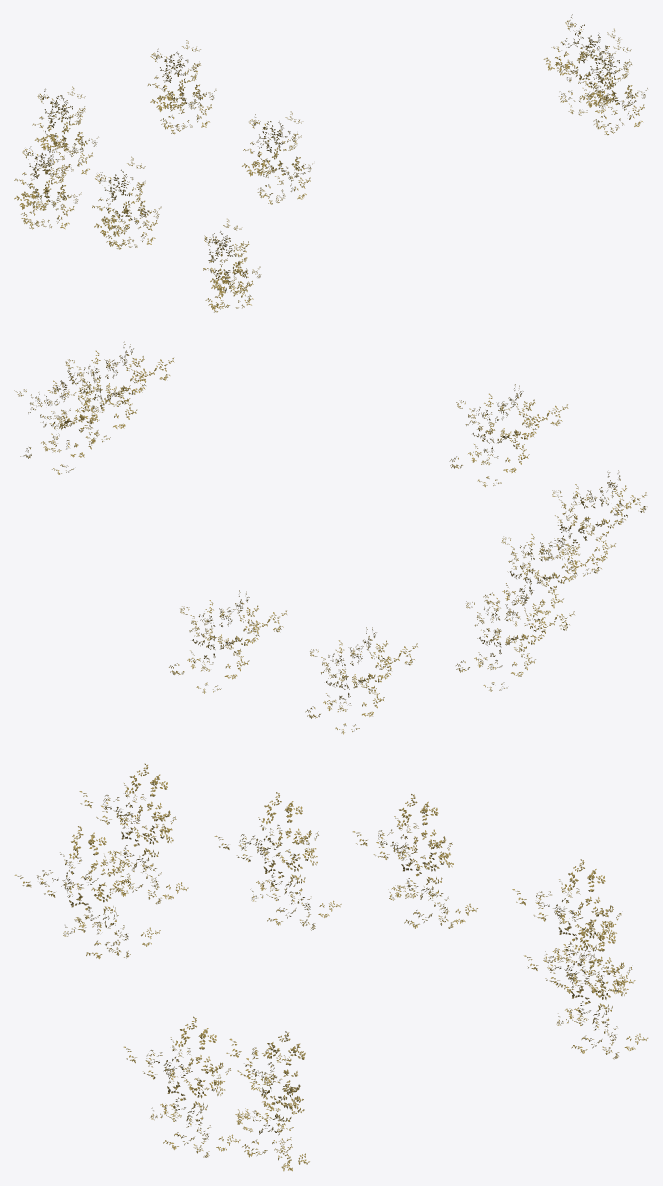
File: treeBf.fbx
3 renders of one model, top to bottom at view 1: azimuth 30°, elevation 25°; view 2: azimuth 150°, elevation 25°; view 3: azimuth 270°, elevation 25°, orthographic. The views are drawn at different scales.
Visible parts, largest first — view 1: m009002_2_5, m009002_2_4, m009002_2_3, m009002_2_6, m009002_2, m009002_2_1, m009002_2_7, m009002_2_2; view 2: m009002_2_6, m009002_2_7, m009002_2_1, m009002_2_5, m009002_2_2, m009002_2, m009002_2_3, m009002_2_4; view 3: m009002_2_2, m009002_2_4, m009002_2_1, m009002_2_6, m009002_2_5, m009002_2, m009002_2_3, m009002_2_7.
Boxes of the visible parts, left/top/right/bottom form: m009002_2_5: left=92, top=156, right=161, bottom=249; m009002_2_4: left=14, top=139, right=81, bottom=229; m009002_2_3: left=203, top=218, right=261, bottom=312; m009002_2_6: left=147, top=40, right=216, bottom=134; m009002_2: left=578, top=41, right=647, bottom=135; m009002_2_1: left=242, top=111, right=312, bottom=204; m009002_2_7: left=32, top=86, right=98, bottom=179; m009002_2_2: left=543, top=14, right=621, bottom=115; m009002_2_6: left=169, top=590, right=286, bottom=693; m009002_2_7: left=305, top=627, right=417, bottom=734; m009002_2_1: left=449, top=384, right=568, bottom=487; m009002_2_5: left=483, top=526, right=606, bottom=626; m009002_2_2: left=14, top=367, right=130, bottom=474; m009002_2: left=57, top=341, right=174, bottom=443; m009002_2_3: left=538, top=470, right=647, bottom=577; m009002_2_4: left=456, top=584, right=574, bottom=691; m009002_2_2: left=226, top=1031, right=309, bottom=1171; m009002_2_4: left=352, top=794, right=477, bottom=928; m009002_2_1: left=79, top=763, right=188, bottom=904; m009002_2_6: left=524, top=919, right=648, bottom=1059; m009002_2_5: left=214, top=792, right=341, bottom=930; m009002_2: left=123, top=1016, right=240, bottom=1157; m009002_2_3: left=14, top=826, right=160, bottom=958; m009002_2_7: left=512, top=859, right=635, bottom=996.
Size of the model in its own units: 374749 by 123483 by 292767.
Materials: 8 (8 with a texture image).
